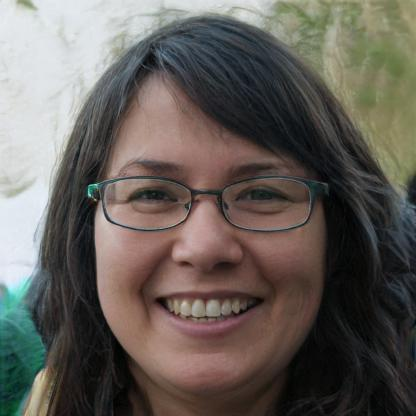glasses: (87, 172, 324, 235)
